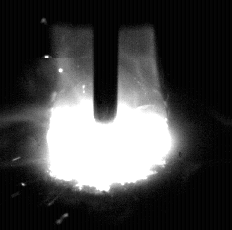arame: (94, 0, 119, 123)
poca: (46, 0, 172, 230)
